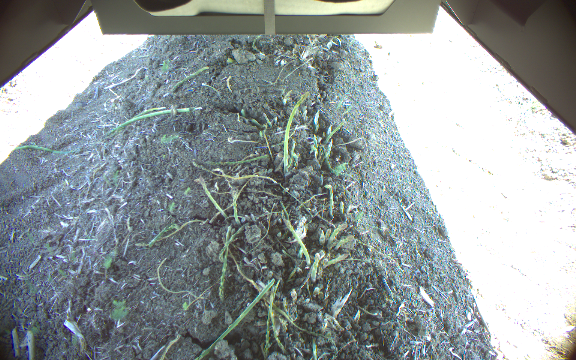aspa: (283, 90, 310, 177), (196, 175, 228, 220), (281, 219, 310, 268), (310, 251, 324, 282), (230, 192, 242, 224), (324, 183, 334, 209)
